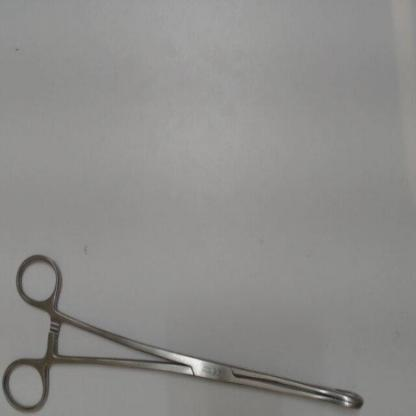Sponge Forceps: (0, 245, 374, 414)
